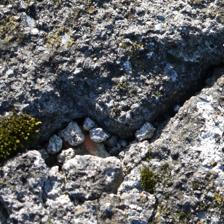Crack: (30, 77, 144, 153), (72, 17, 149, 105)
